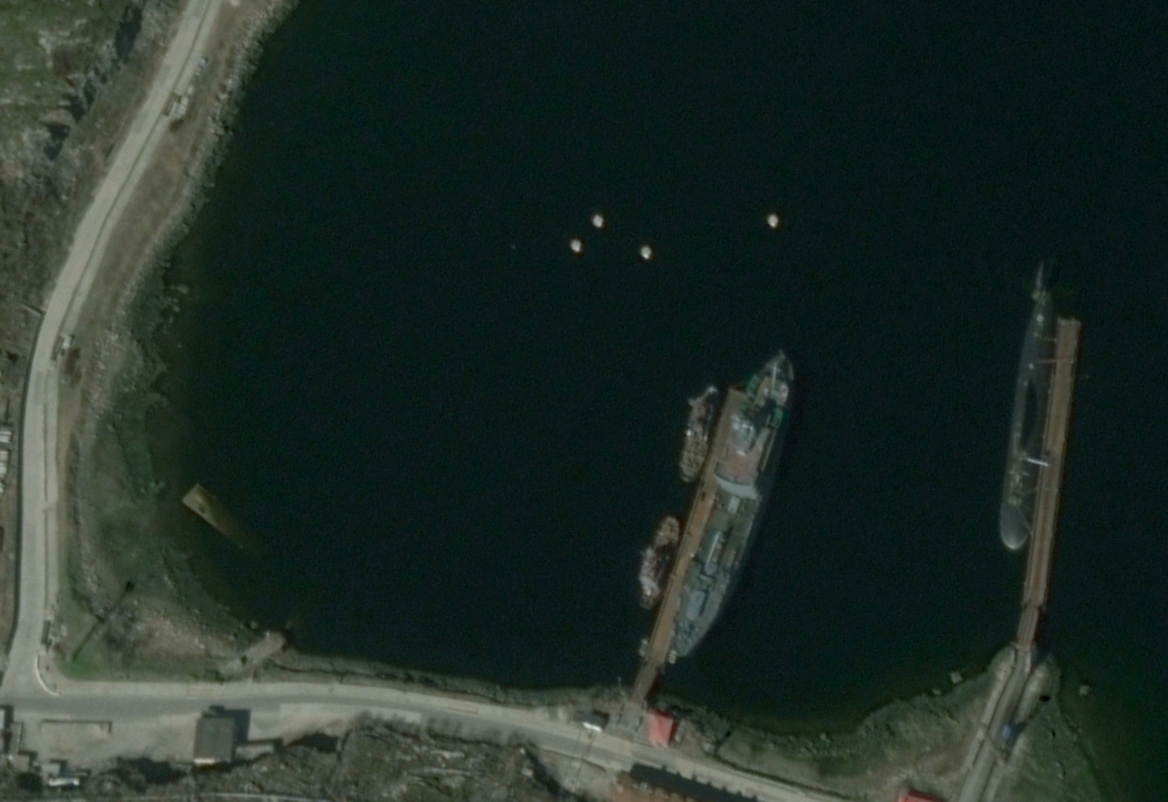merchant ship: (668, 352, 793, 657), (676, 382, 716, 486), (640, 518, 677, 612)
submarine: (996, 258, 1056, 554)
